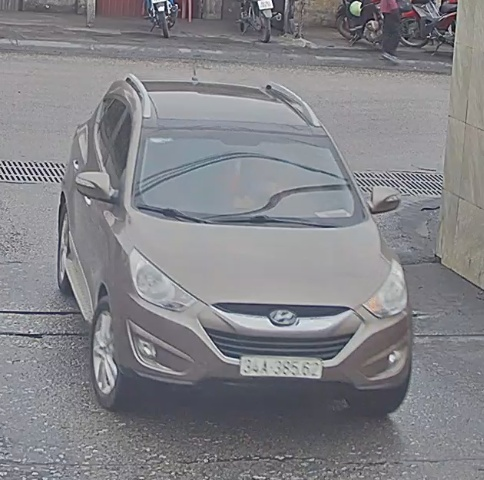vehicle plate: (233, 349, 335, 386)
